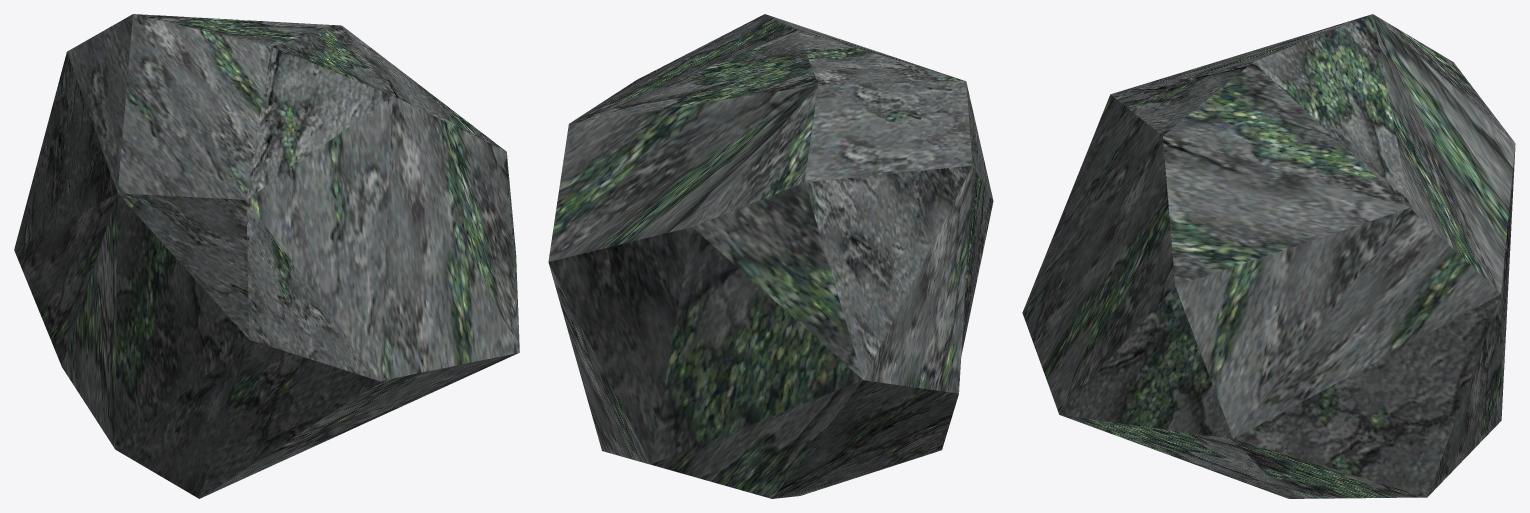
File: BERYL.fbx
3 views of the same model, side by side, from view 1: azimuth 30°, elevation 25°; view 2: azimuth 150°, elevation 25°; view 3: azimuth 270°, elevation 25° (orthographic).
Parts seen in each view (by area): view 1: BERYL_ms3d_mo; view 2: BERYL_ms3d_mo; view 3: BERYL_ms3d_mo.
Part boxes in pixels (box(x1,y1,x2,y2)): BERYL_ms3d_mo: box(14, 14, 519, 498); BERYL_ms3d_mo: box(548, 14, 993, 498); BERYL_ms3d_mo: box(1022, 14, 1515, 498).
Size of the model in its own units: 0.5875 by 0.602 by 0.5905.
Materials: 1 (1 with a texture image).
